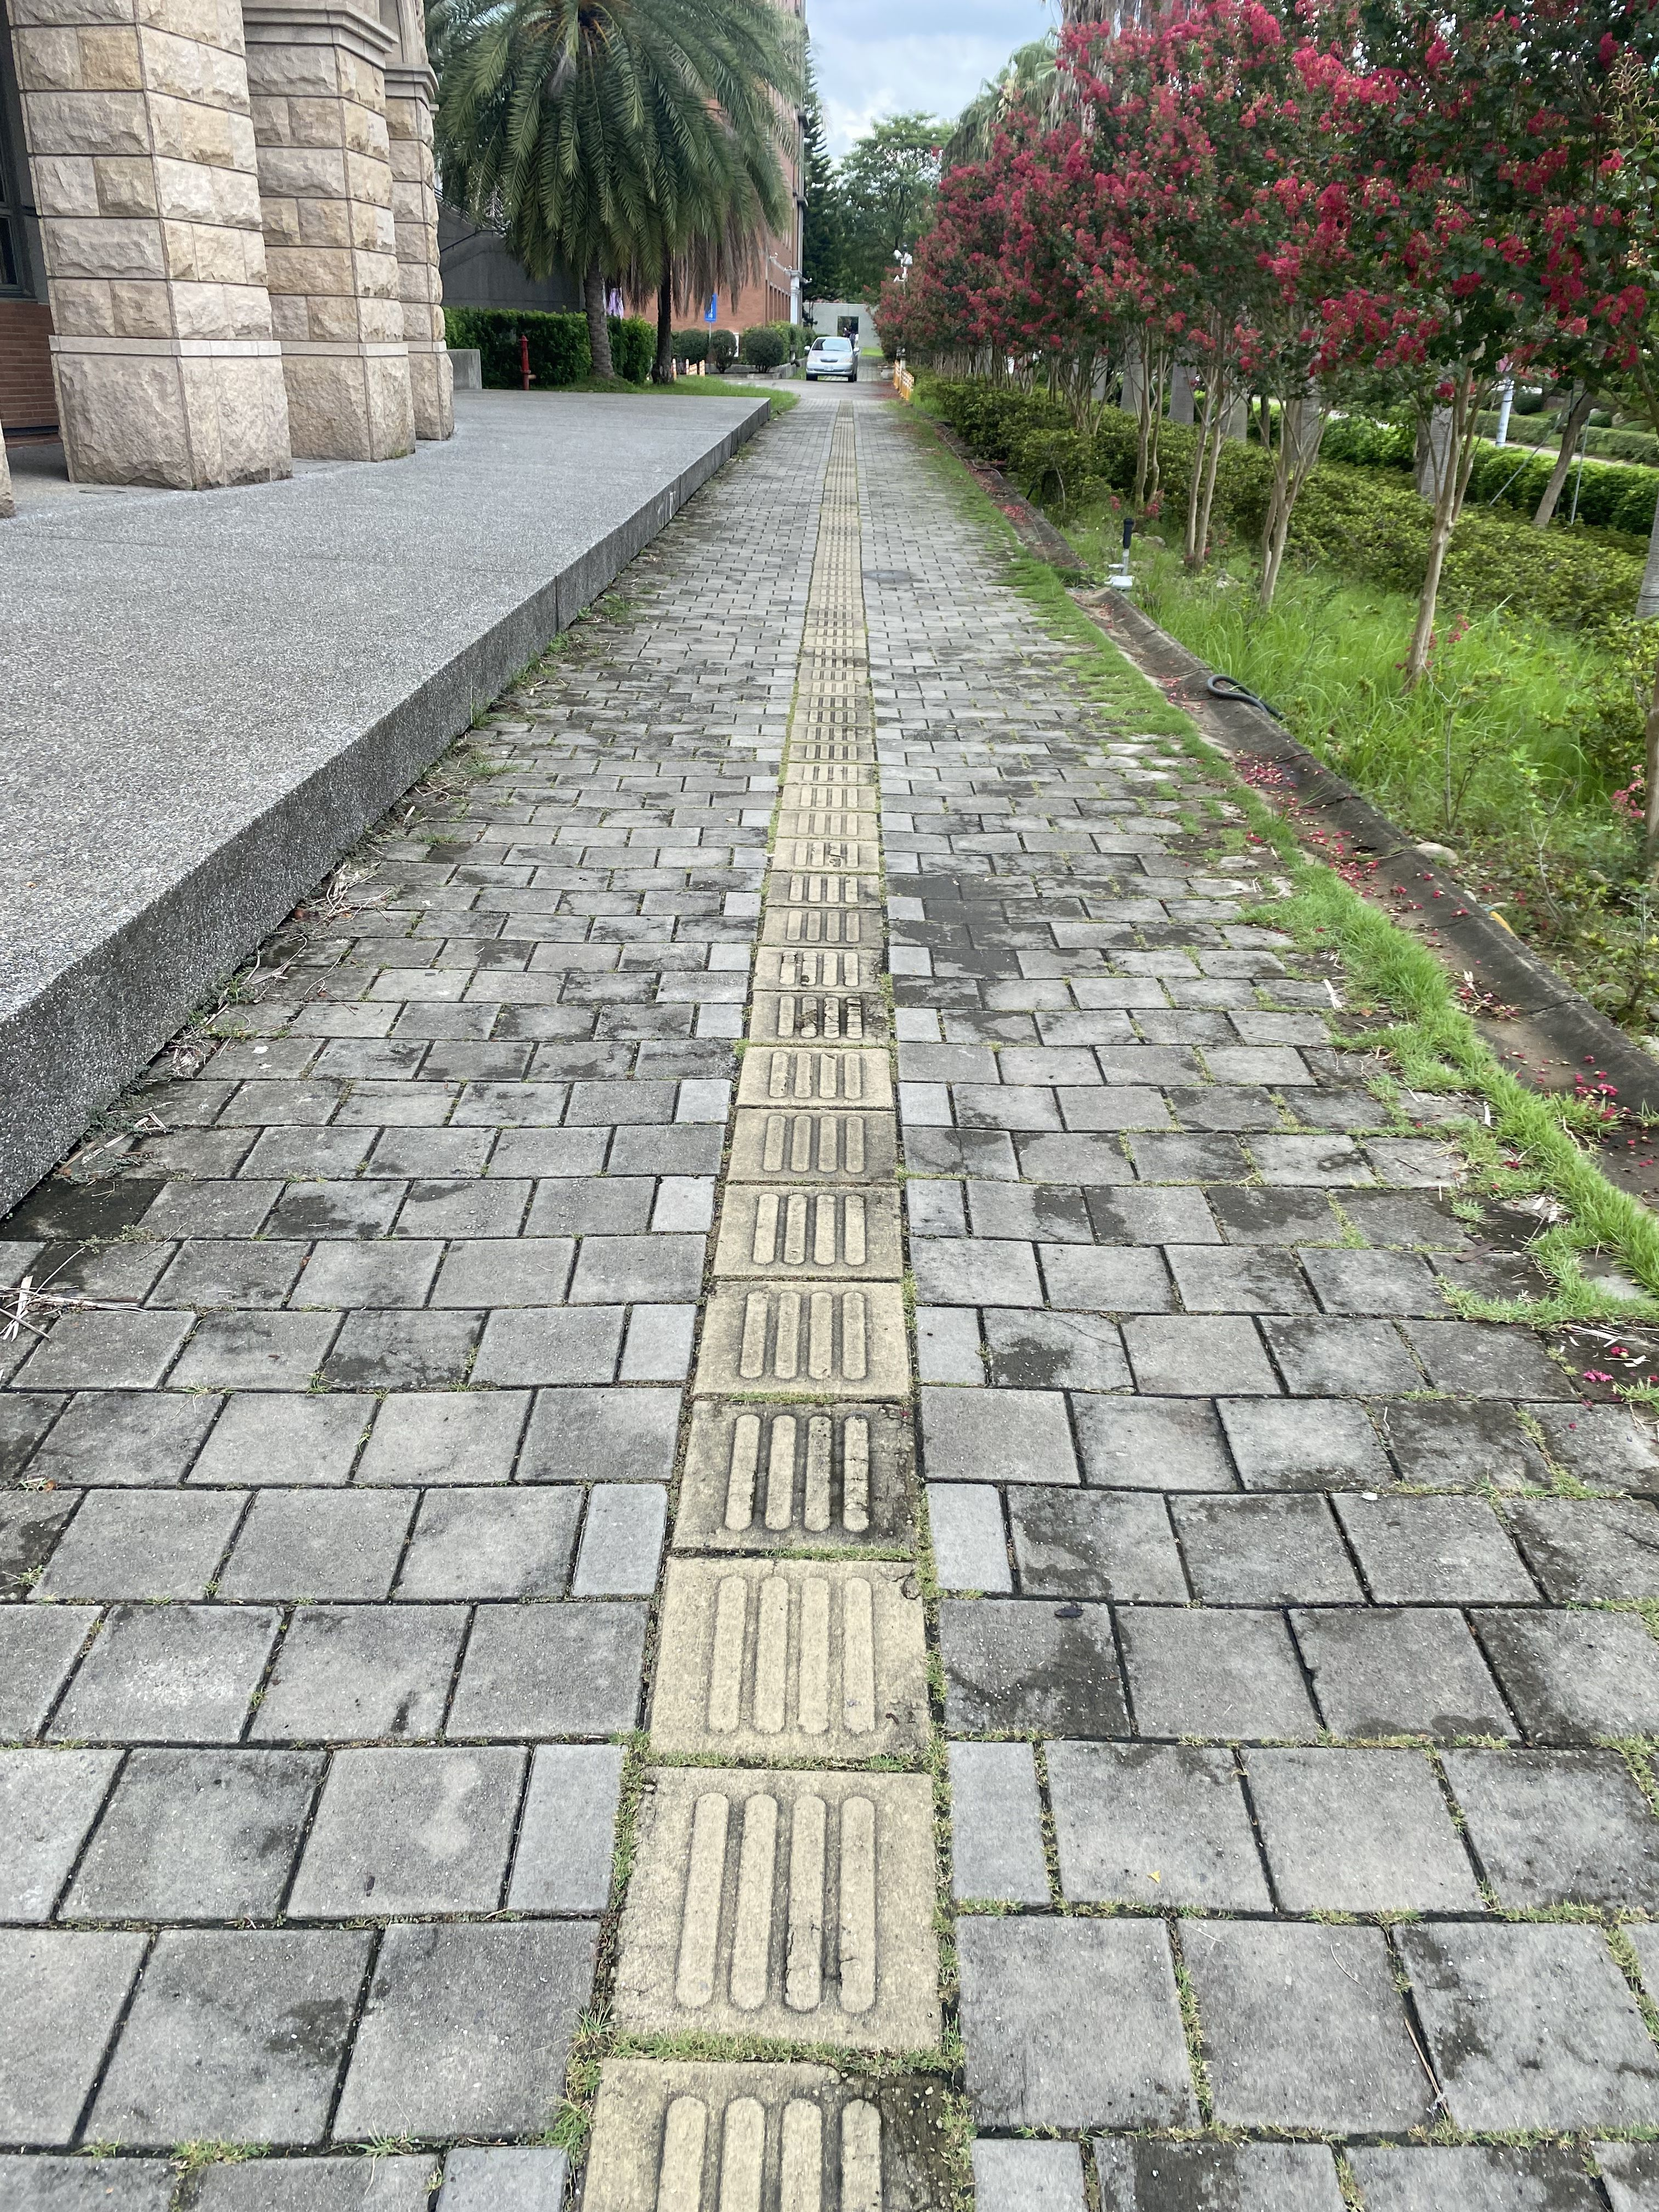0: (5, 615, 1659, 2212)
sidewalk: (589, 371, 1169, 1402)
